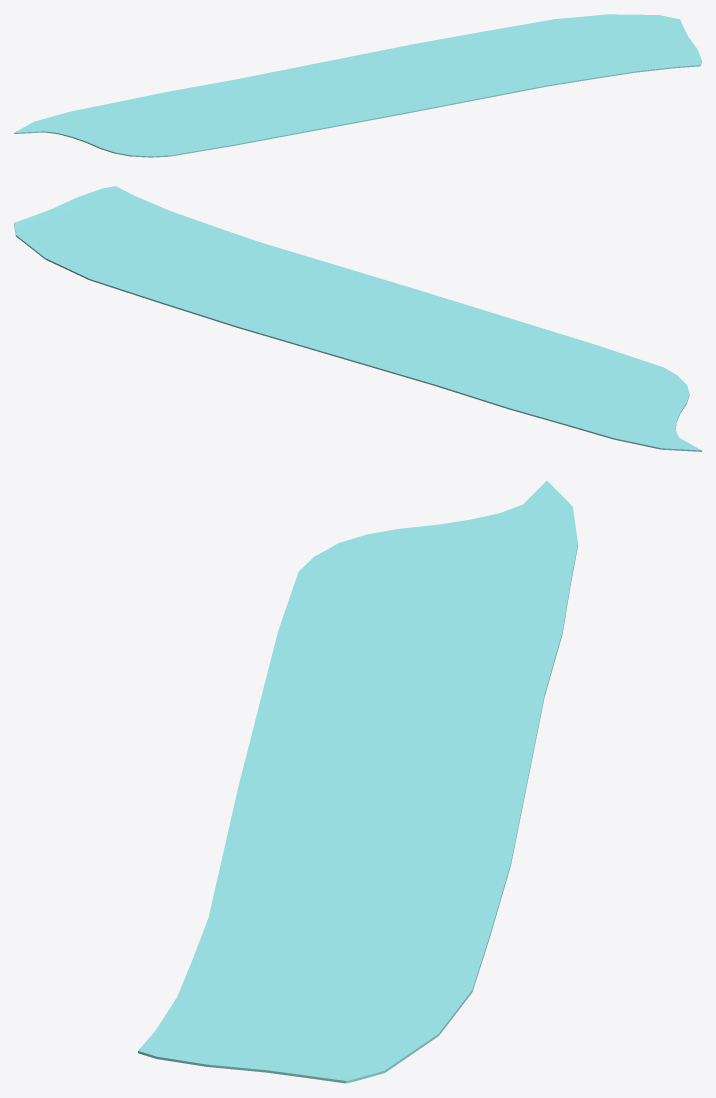
The model's file is Level 132 unroll blindfold.fbx.
3 renders of one model, top to bottom at view 1: azimuth 30°, elevation 25°; view 2: azimuth 150°, elevation 25°; view 3: azimuth 270°, elevation 25°, orthographic. The views are drawn at different scales.
Visible parts, largest first — view 1: Blend; view 2: Blend; view 3: Blend.
Boxes of the visible parts, left/top/right/bottom form: Blend: left=14, top=14, right=701, bottom=157; Blend: left=14, top=186, right=701, bottom=451; Blend: left=138, top=481, right=577, bottom=1083.
Size of what is drawn, in the model's own units: 542 by 1.2 by 168.
